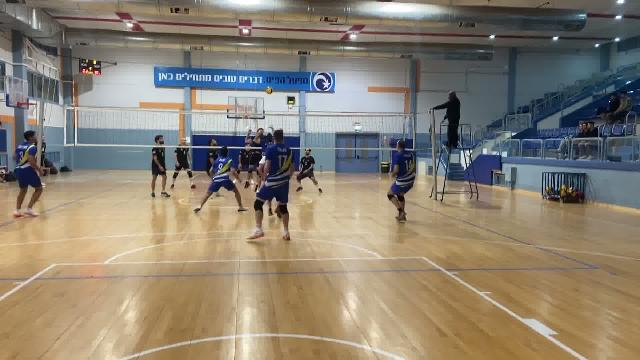ball: (265, 86, 276, 97)
